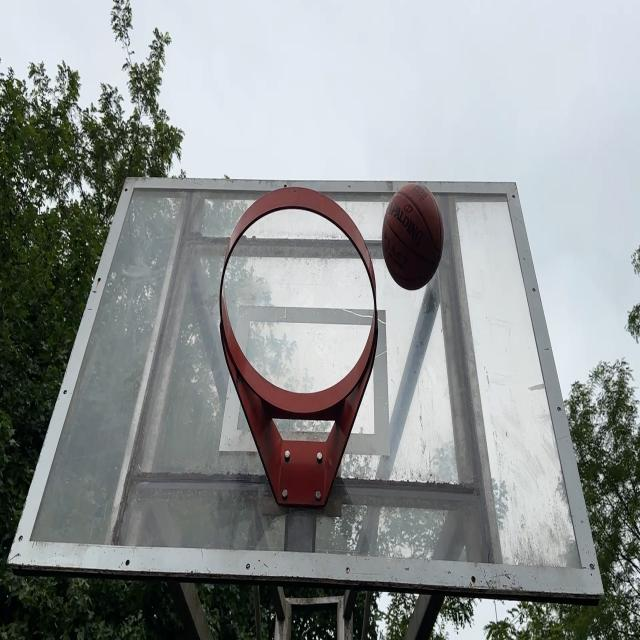rebound_hit: (383, 183, 443, 293)
